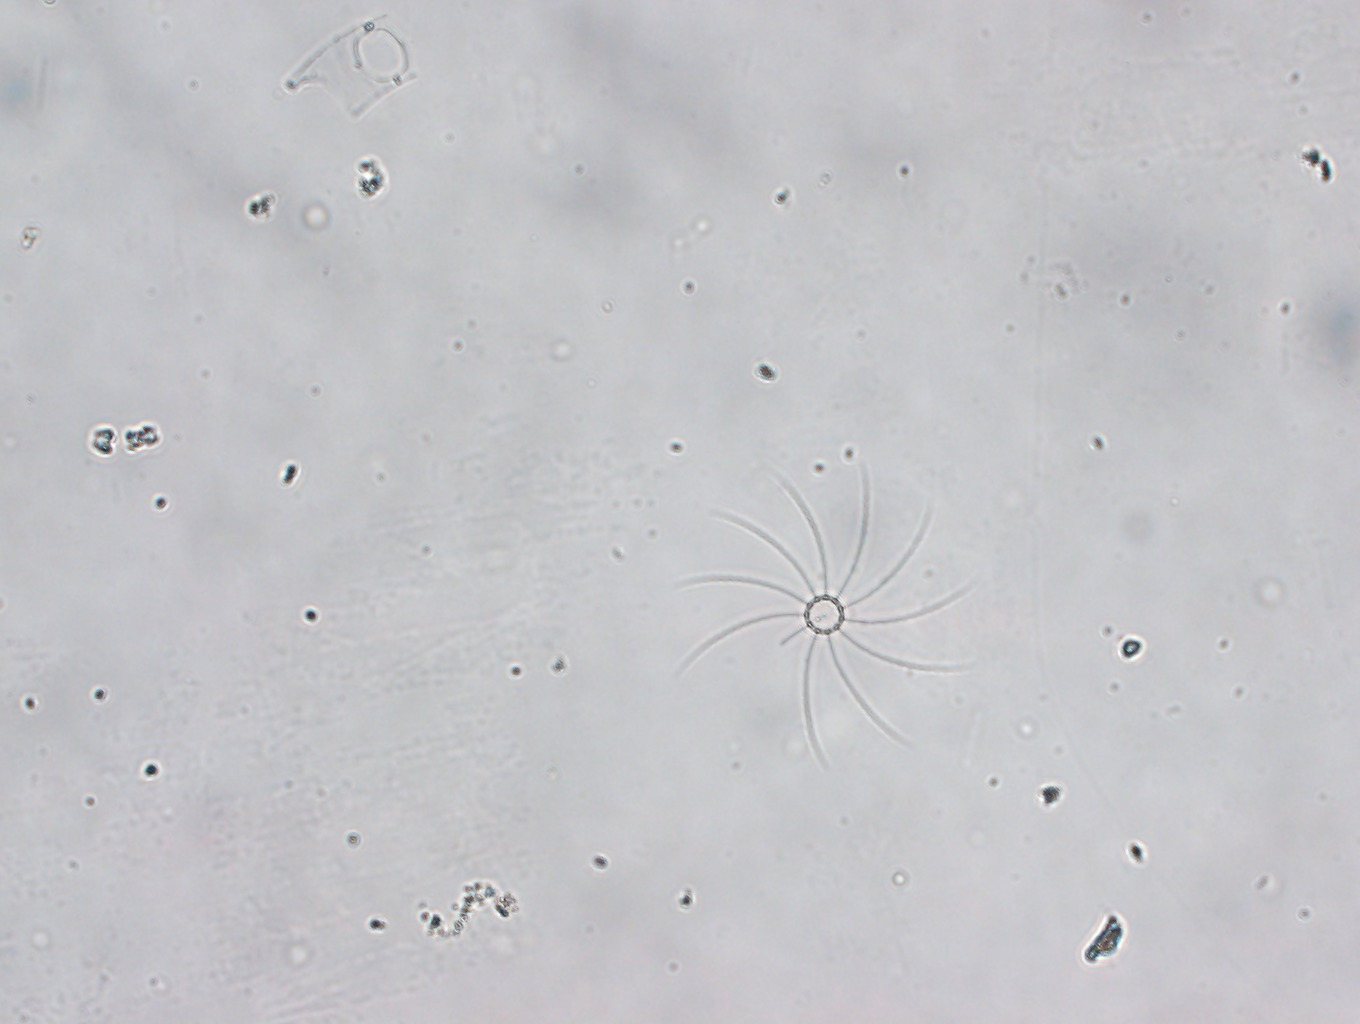bacteriastrum: (678, 460, 983, 769)
